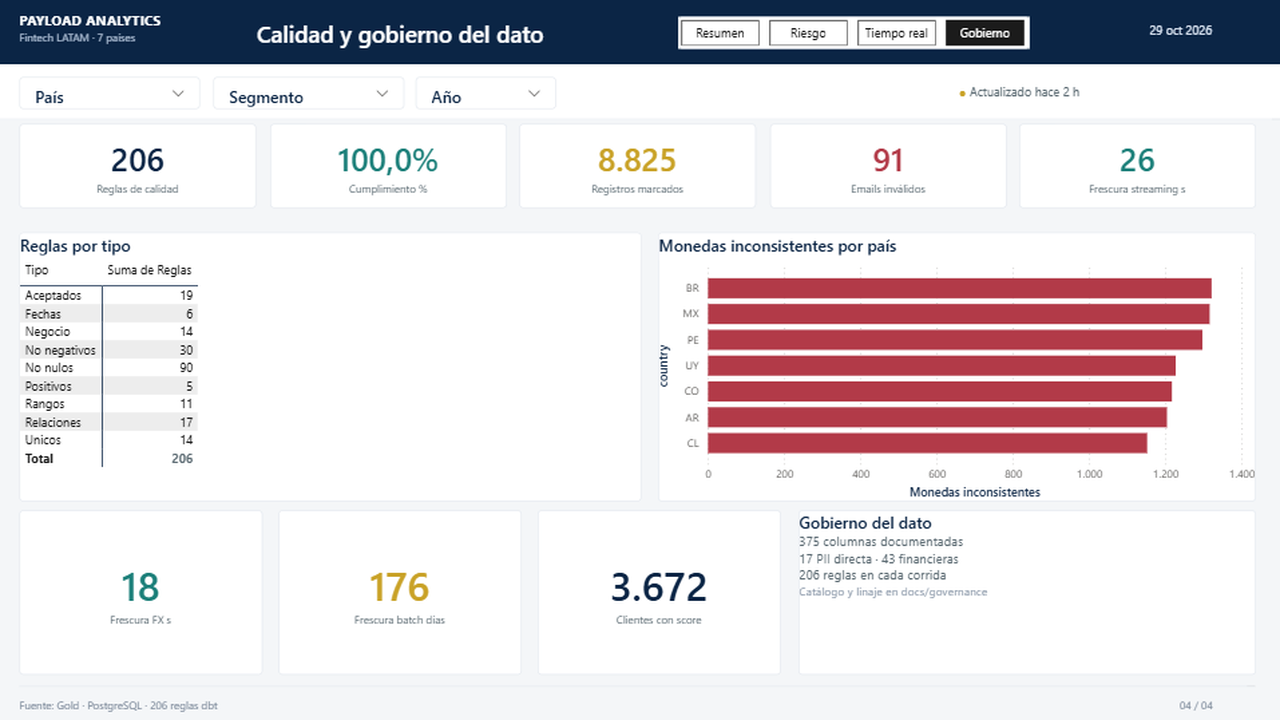

Layout of this report page (visuals, bound fields, positions):
{"tool":"powerbi","page":{"name":"Gobierno","canvas":[1280,720],"ordinal":3},"visuals":[{"type":"textbox","box":[0,0,1280,720],"z":0},{"type":"textbox","box":[0,64,1280,56],"z":100},{"type":"textbox","box":[24,684,1232,1],"z":100},{"type":"textbox","box":[0,119,1280,1],"z":101},{"type":"slicer","fields":{"Values":["gold dim_customer.country"]},"box":[24,77,180,32],"z":200},{"type":"slicer","fields":{"Values":["gold dim_customer.customer_segment"]},"box":[216,77,190,32],"z":200},{"type":"slicer","fields":{"Values":["gold dim_date.year"]},"box":[418,77,140,32],"z":200},{"type":"card","fields":{"Values":["Medidas.Reglas de calidad"]},"box":[24,124,236,84],"z":200},{"type":"card","fields":{"Values":["Medidas.Cumplimiento %"]},"box":[273,124,236,84],"z":200},{"type":"card","fields":{"Values":["Medidas.Registros marcados"]},"box":[522,124,236,84],"z":200},{"type":"card","fields":{"Values":["Medidas.Emails inválidos"]},"box":[771,124,236,84],"z":200},{"type":"card","fields":{"Values":["Medidas.Frescura streaming s"]},"box":[1020,124,236,84],"z":200},{"type":"pivotTable","title":"Reglas por tipo","fields":{"Rows":["ReglasCalidad.Tipo"],"Values":["Sum(ReglasCalidad.Reglas)"]},"box":[24,232,620,268],"z":200},{"type":"clusteredBarChart","title":"Monedas inconsistentes por país","fields":{"Category":["gold dim_account.country"],"Y":["Medidas.Monedas inconsistentes"]},"box":[660,232,596,268],"z":200},{"type":"card","fields":{"Values":["Medidas.Frescura FX s"]},"box":[24,508,242,164],"z":200},{"type":"card","fields":{"Values":["Medidas.Frescura batch días"]},"box":[282,508,242,164],"z":200},{"type":"card","fields":{"Values":["Medidas.Clientes con score"]},"box":[540,508,242,164],"z":200},{"type":"textbox","box":[800,508,456,164],"z":300},{"type":"textbox","box":[0,0,1280,64],"z":1000},{"type":"textbox","box":[680,16,350,32],"z":1090},{"type":"textbox","box":[24,10,230,44],"z":1100},{"type":"pageNavigator","box":[680,16,350,32],"z":1100},{"type":"textbox","box":[260,18,430,30],"z":1100},{"type":"textbox","box":[1150,21,106,22],"z":1100},{"type":"textbox","box":[960,84,296,20],"z":1100},{"type":"textbox","box":[24,694,900,16],"z":1100},{"type":"textbox","box":[1180,694,76,16],"z":1100},{"type":"textbox","box":[0,0,4,64],"z":1200}]}

Visuals, with their boxes in screenshot pixels (x1, y1, x2, y2), scaled from the page's 1280x720 canvas onto the 1280x720 screenshot:
textbox: 0, 0, 1279, 719
textbox: 0, 64, 1279, 120
textbox: 24, 684, 1256, 685
textbox: 0, 119, 1279, 120
slicer - gold dim_customer.country: 24, 77, 204, 109
slicer - gold dim_customer.customer_segment: 216, 77, 406, 109
slicer - gold dim_date.year: 418, 77, 558, 109
card - Medidas.Reglas de calidad: 24, 124, 260, 208
card - Medidas.Cumplimiento %: 273, 124, 509, 208
card - Medidas.Registros marcados: 522, 124, 758, 208
card - Medidas.Emails inválidos: 771, 124, 1007, 208
card - Medidas.Frescura streaming s: 1020, 124, 1256, 208
"Reglas por tipo" pivotTable: 24, 232, 644, 500
"Monedas inconsistentes por país" clusteredBarChart: 660, 232, 1256, 500
card - Medidas.Frescura FX s: 24, 508, 266, 672
card - Medidas.Frescura batch días: 282, 508, 524, 672
card - Medidas.Clientes con score: 540, 508, 782, 672
textbox: 800, 508, 1256, 672
textbox: 0, 0, 1279, 64
textbox: 680, 16, 1030, 48
textbox: 24, 10, 254, 54
pageNavigator: 680, 16, 1030, 48
textbox: 260, 18, 690, 48
textbox: 1150, 21, 1256, 43
textbox: 960, 84, 1256, 104
textbox: 24, 694, 924, 710
textbox: 1180, 694, 1256, 710
textbox: 0, 0, 4, 64
